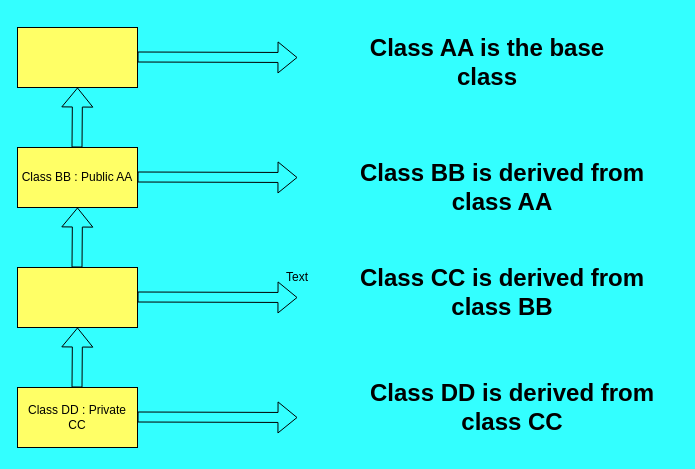
This 695x469 diagram has some shape labels left out. Each missing label, with the centre of its shape:
Class AA: [77,57]
Class CC : Protected BB: [77,297]
